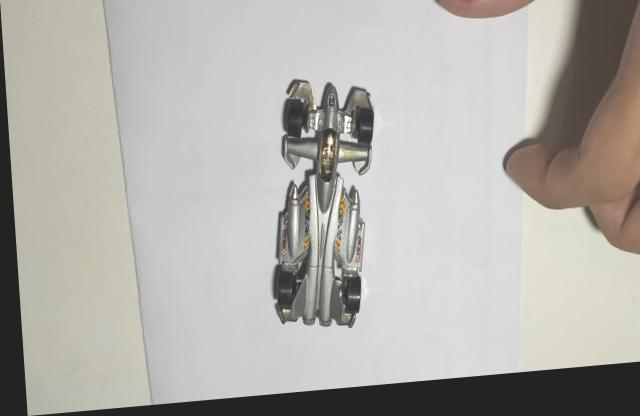05_DC121: (267, 83, 373, 333)
